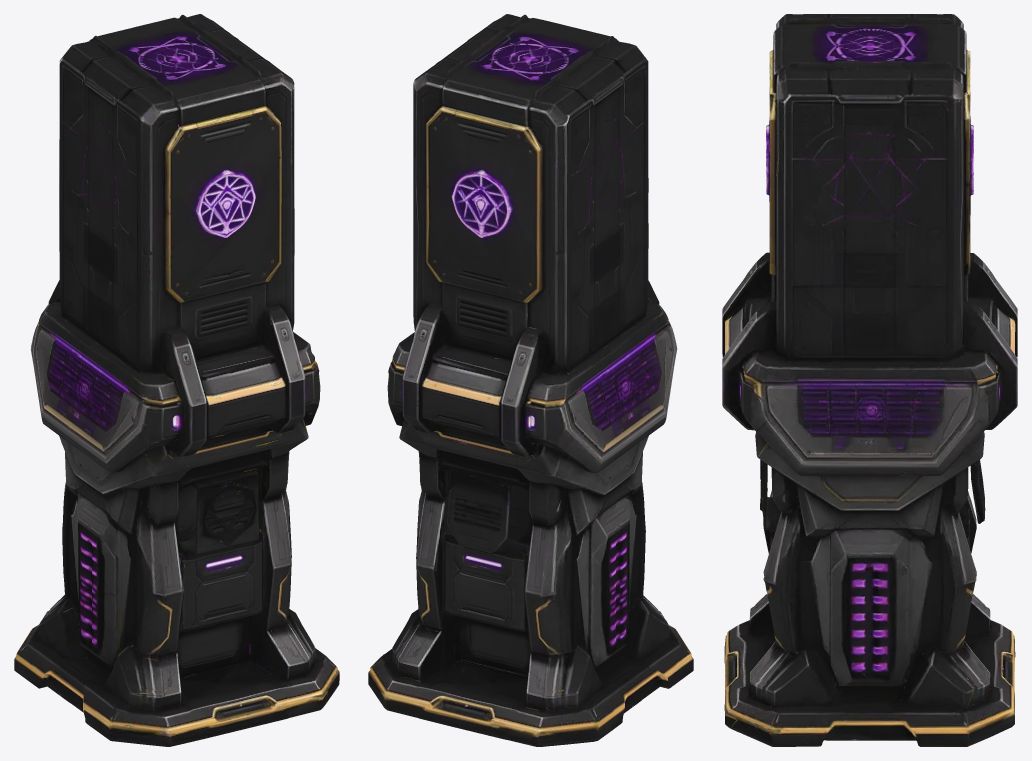
File: eoncity_market_trade_terminal.ce1d428df733.glb
3 renders of one model, left to right at view 1: azimuth 30°, elevation 25°; view 2: azimuth 150°, elevation 25°; view 3: azimuth 270°, elevation 25°, orthographic. The views are drawn at different scales.
Parts seen in each view (by area): view 1: Mesh1.0; view 2: Mesh1.0; view 3: Mesh1.0.
Boxes of the visible parts, box(x1,y1,x2,y2) form: Mesh1.0: box(14, 14, 339, 746); Mesh1.0: box(368, 14, 693, 746); Mesh1.0: box(722, 14, 1017, 746).
Bounding box in the file's own units: 0.7307 × 1.9 × 0.7819.
1 material, 1 textured.
